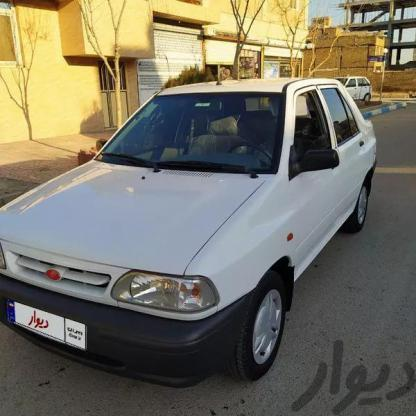Car: (0, 61, 403, 376), (336, 68, 384, 109)
